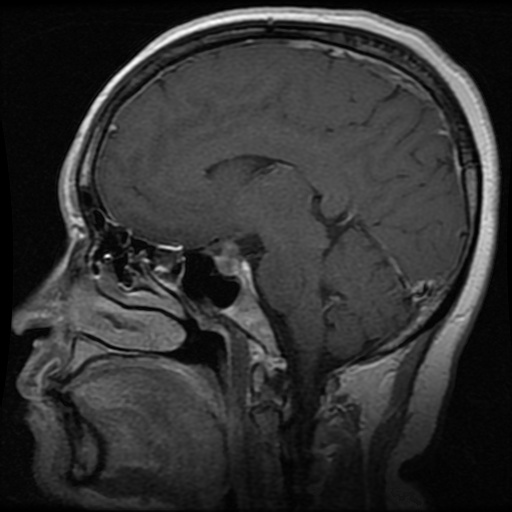pituitary: (214, 242, 252, 291)
